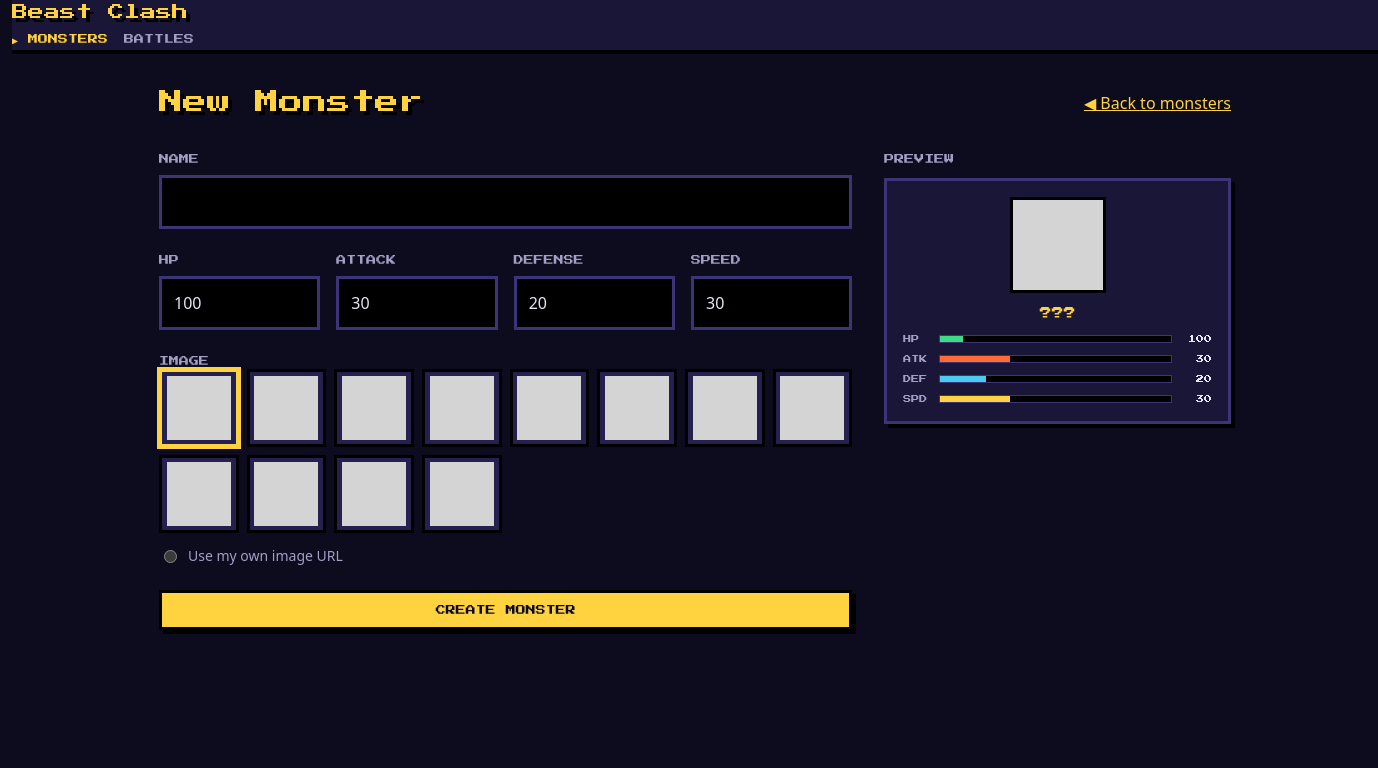
Test: MonsterCreatePage › accepts a custom image URL
In the field labelled "Name": (506, 202) [159,175,852,229], type "Emberclaw"
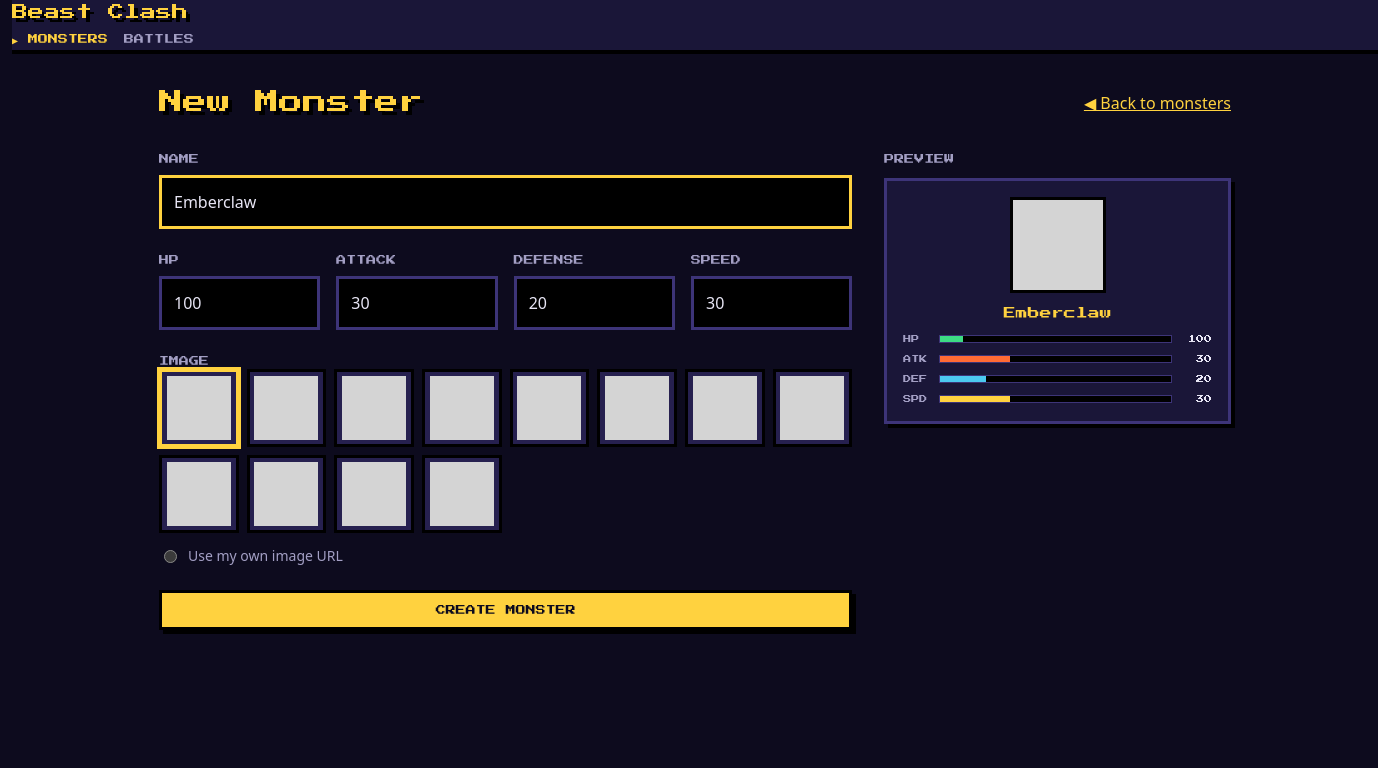
Click the radio button labelled "Use my own image URL": (170, 557) [164,550,177,563]
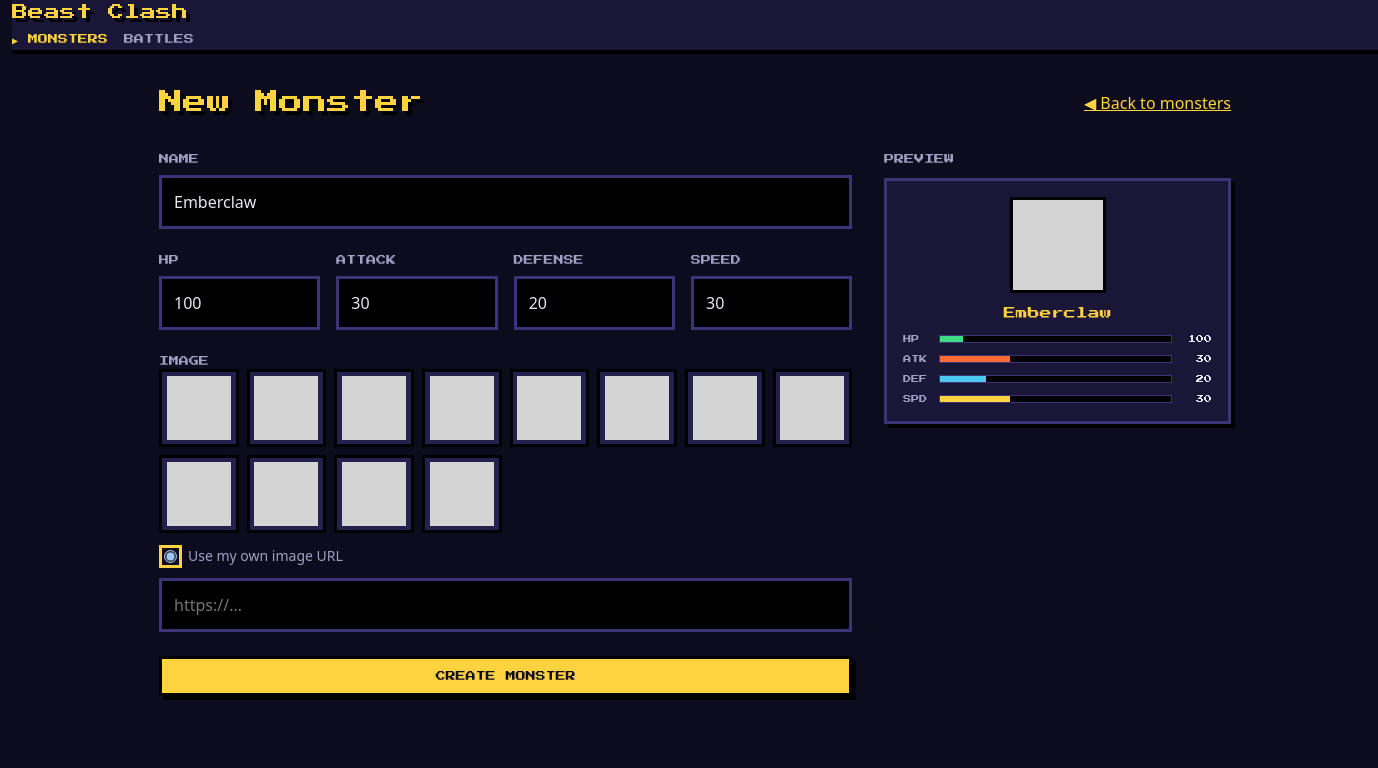
In the field named "Image URL": (506, 605) [159,578,852,632], type "https://example.com/emberclaw.png"
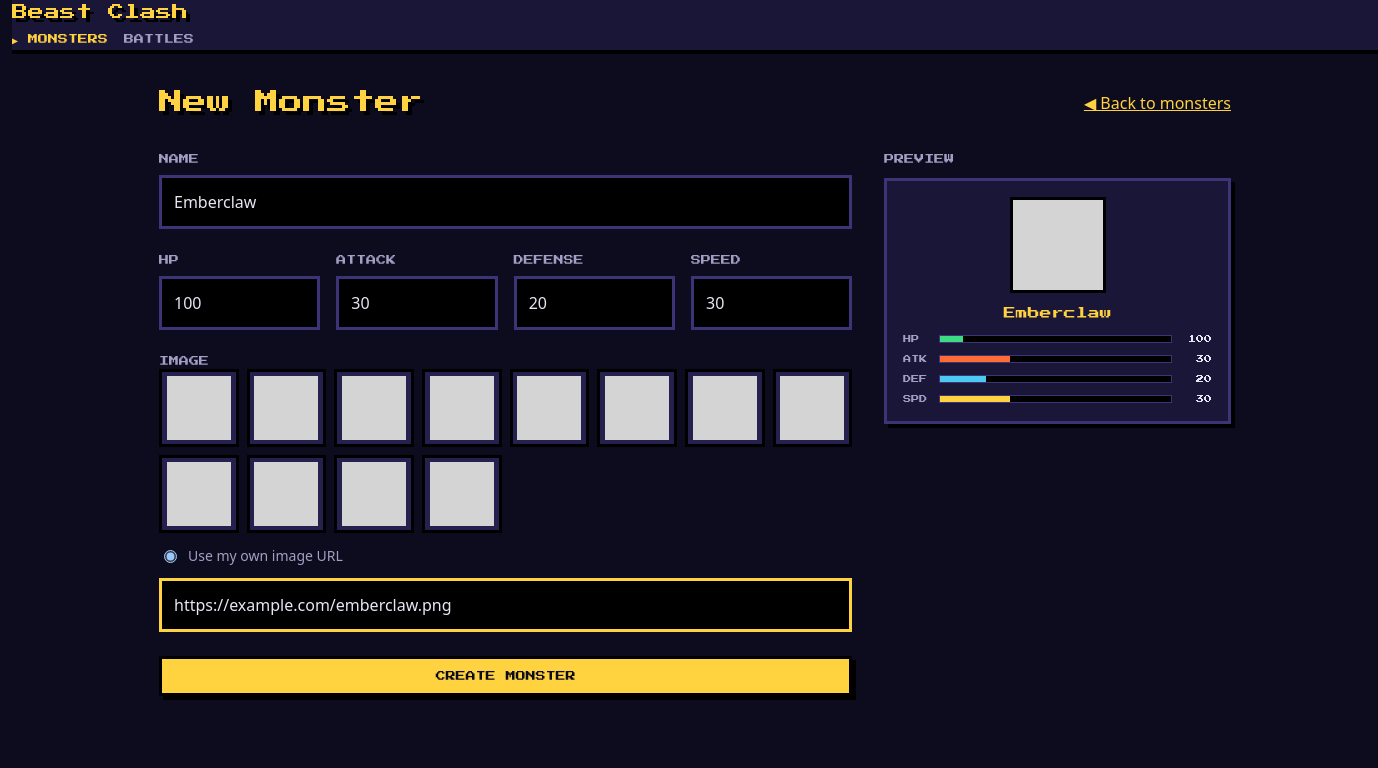
Click the button "Create monster": (506, 676) [159,656,852,696]
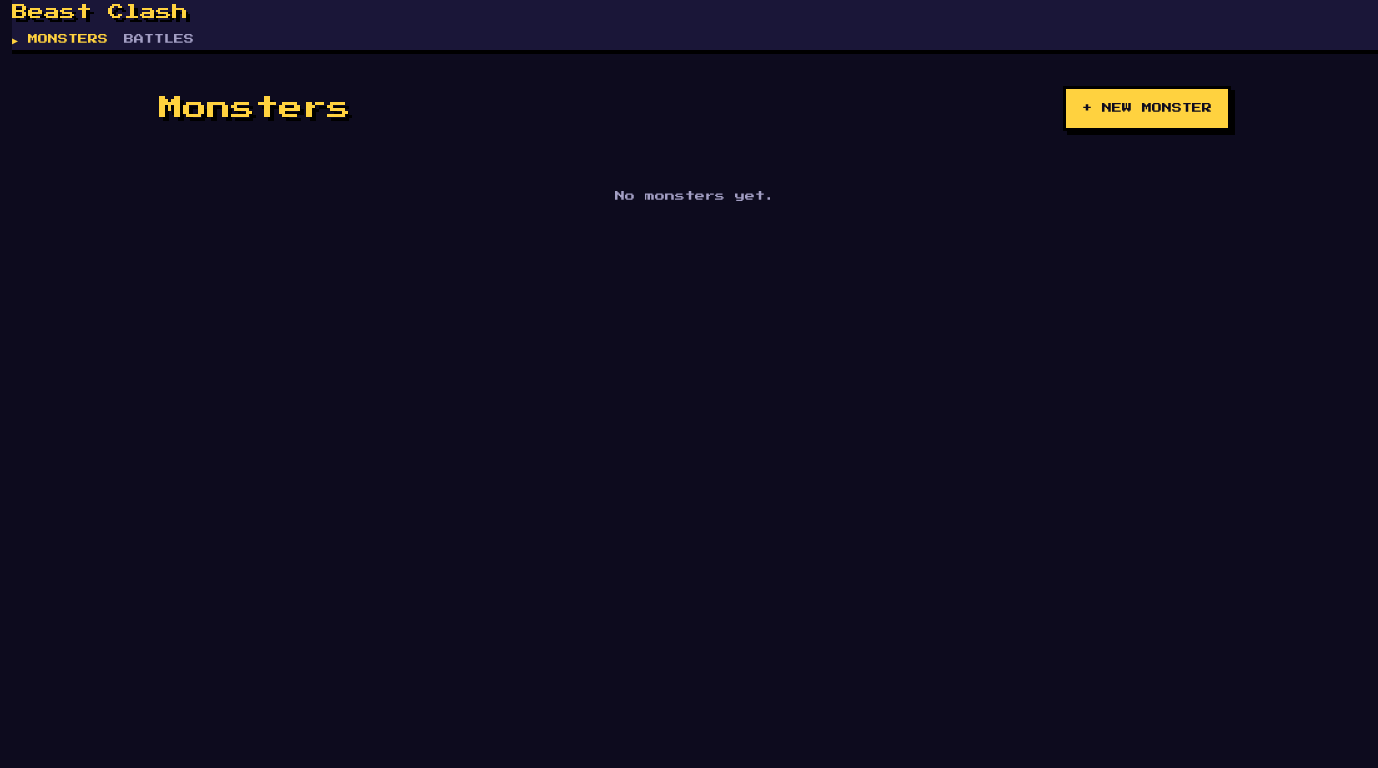
Now the heading "Monsters" is shown, box [159,92,351,125]
